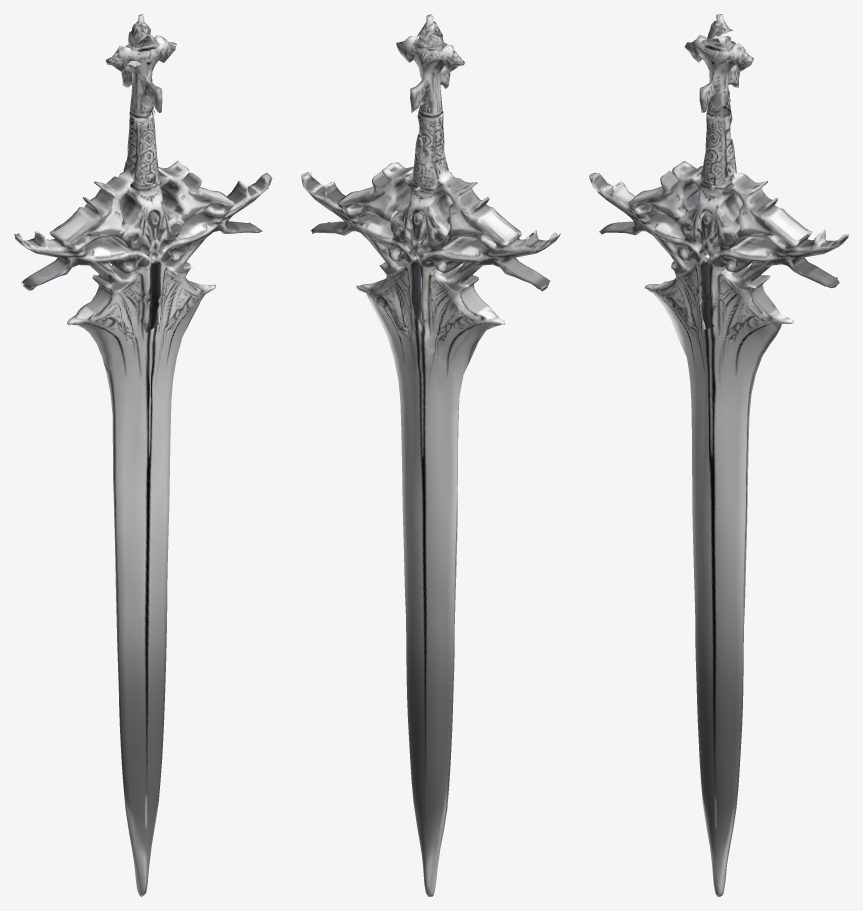
3 views of the same model, side by side, from view 1: azimuth 30°, elevation 25°; view 2: azimuth 150°, elevation 25°; view 3: azimuth 330°, elevation 25° (orthographic).
Parts seen in each view (by area): view 1: tripo_node_46337998-9eee-4a5e-8d74-d9d3586e4015; view 2: tripo_node_46337998-9eee-4a5e-8d74-d9d3586e4015; view 3: tripo_node_46337998-9eee-4a5e-8d74-d9d3586e4015.
Part boxes in pixels (box(x1,y1,x2,y2)): tripo_node_46337998-9eee-4a5e-8d74-d9d3586e4015: box(14, 14, 272, 896); tripo_node_46337998-9eee-4a5e-8d74-d9d3586e4015: box(301, 14, 560, 896); tripo_node_46337998-9eee-4a5e-8d74-d9d3586e4015: box(589, 14, 848, 896).
Size of the model in its own units: 0.2969 by 0.9822 by 0.0756.
1 material, 1 textured.
